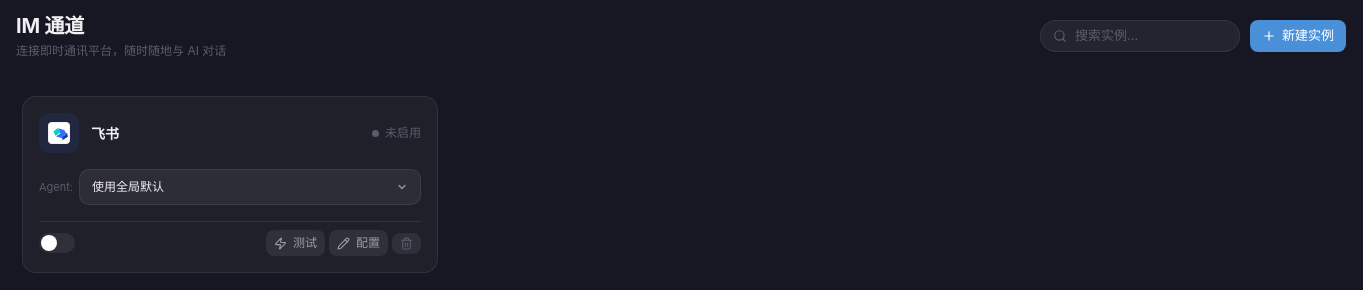
IMChannelsView › uses the shared embedded search input in the page header
The width and height of the screenshot is (1363, 290).
Expected: the icon with class "hc-search__icon" is shown, [1053,29,1067,43]
Type "飞书" into the field with placeholder "搜索实例..." at (1153, 36), box [1075,26,1231,46]
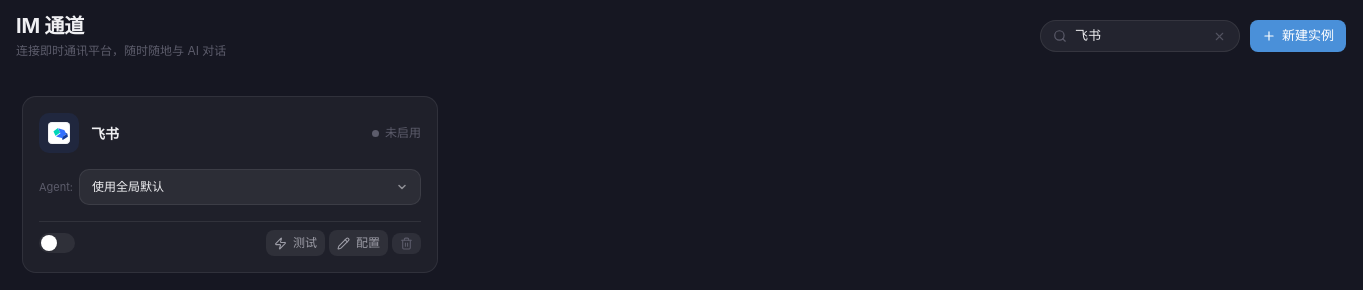
Expected: the button with class "hc-search__clear" is shown, [1209,25,1231,47]
